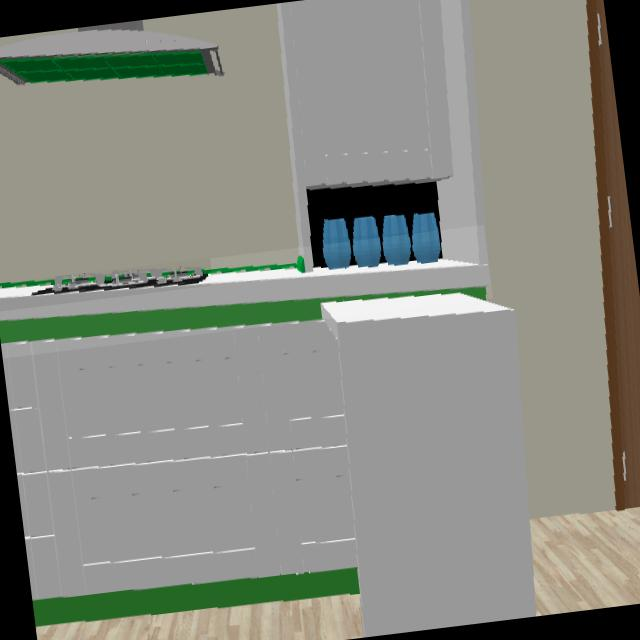countertop: (0, 259, 490, 344)
monitor: (1, 320, 356, 600)
stove: (0, 265, 212, 298)
